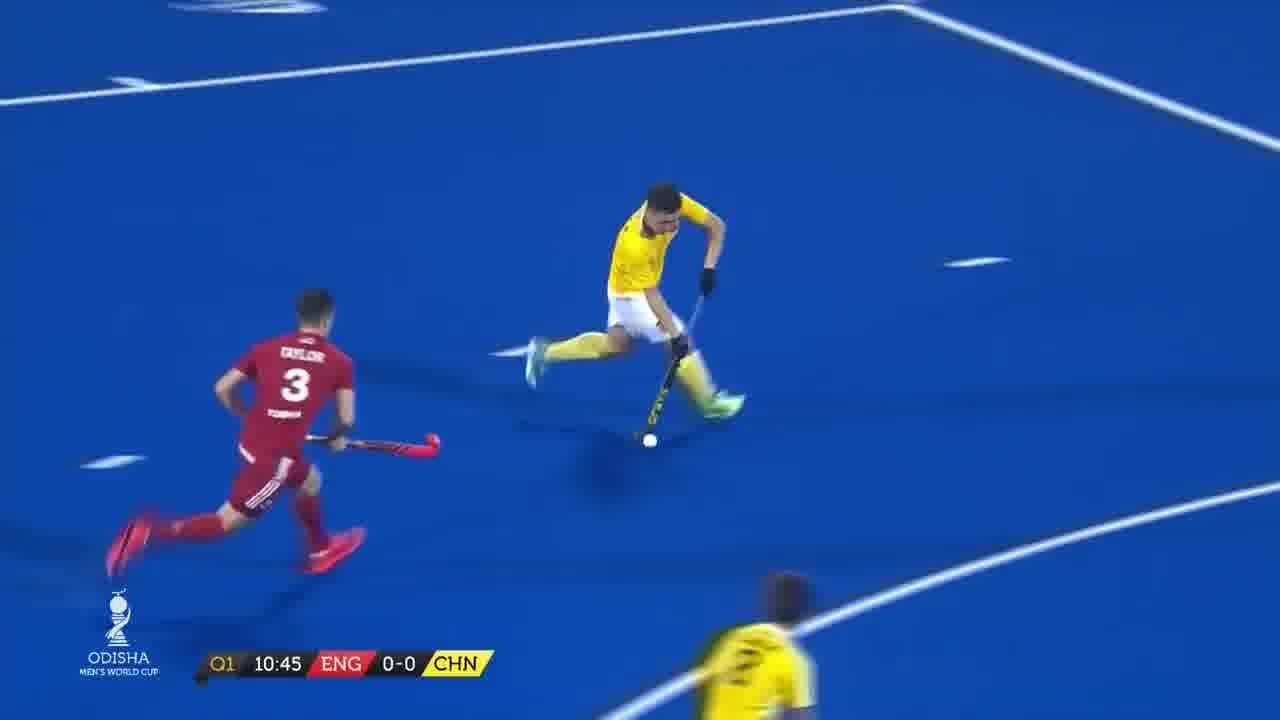ball: (644, 432, 660, 450)
